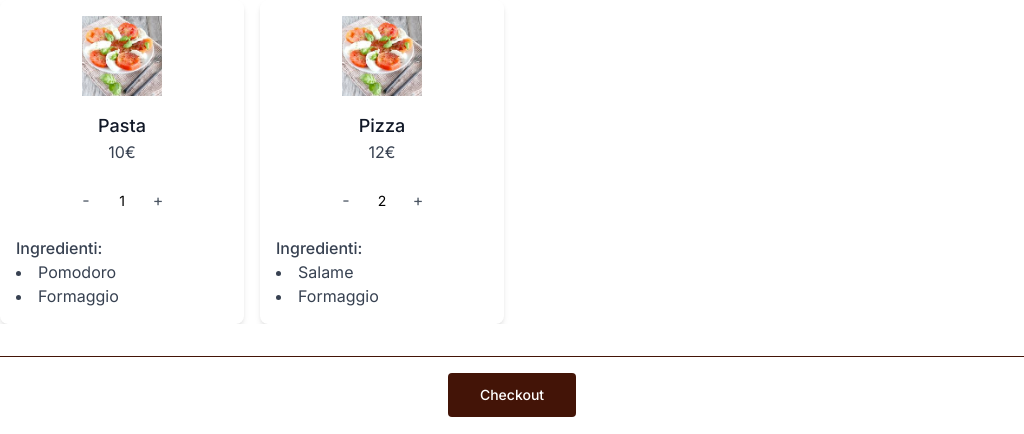
Test: Verifica il funzionamento frontend del componente Menu Table › Verifica di aumento quantità
Click the button with test id "increase_1".
click(158, 200)  # box [138,180,178,220]
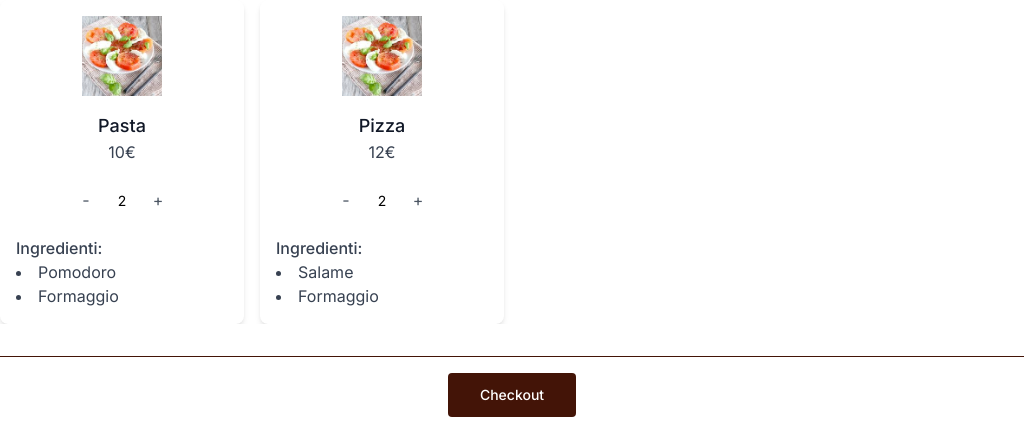
expect the field with test id "display_1" holds "2": met, box [106,180,138,220]
